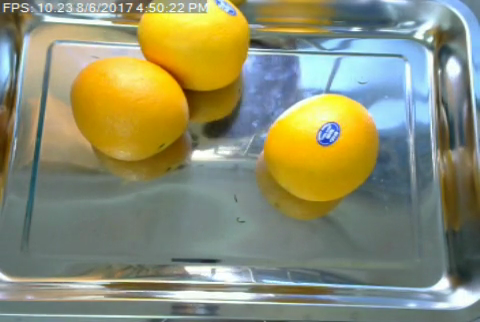Orange: (70, 55, 189, 161), (264, 93, 379, 201), (136, 0, 248, 90)
